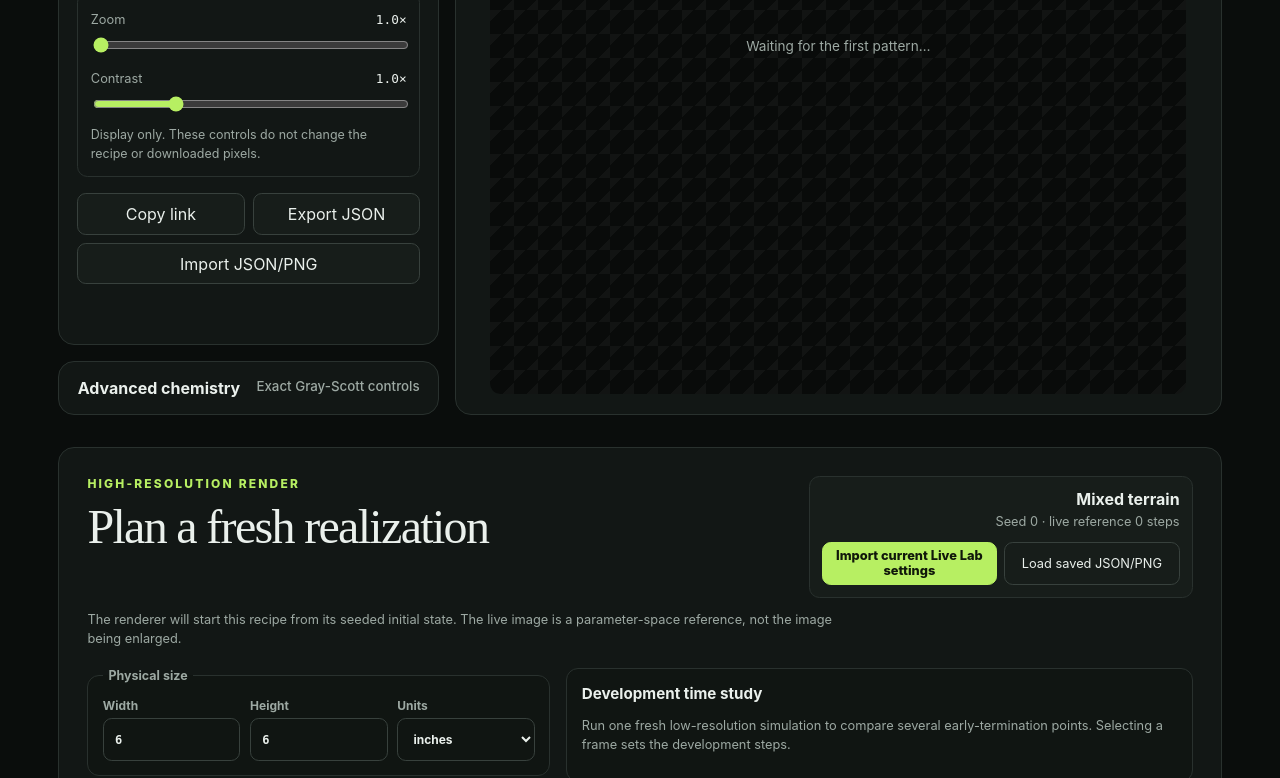
Test: live controls › sends the value that is displayed after a slider changes
(page scrolled)
Click the text "Advanced chemistry" at (159, 388), box [78,378,240,398]
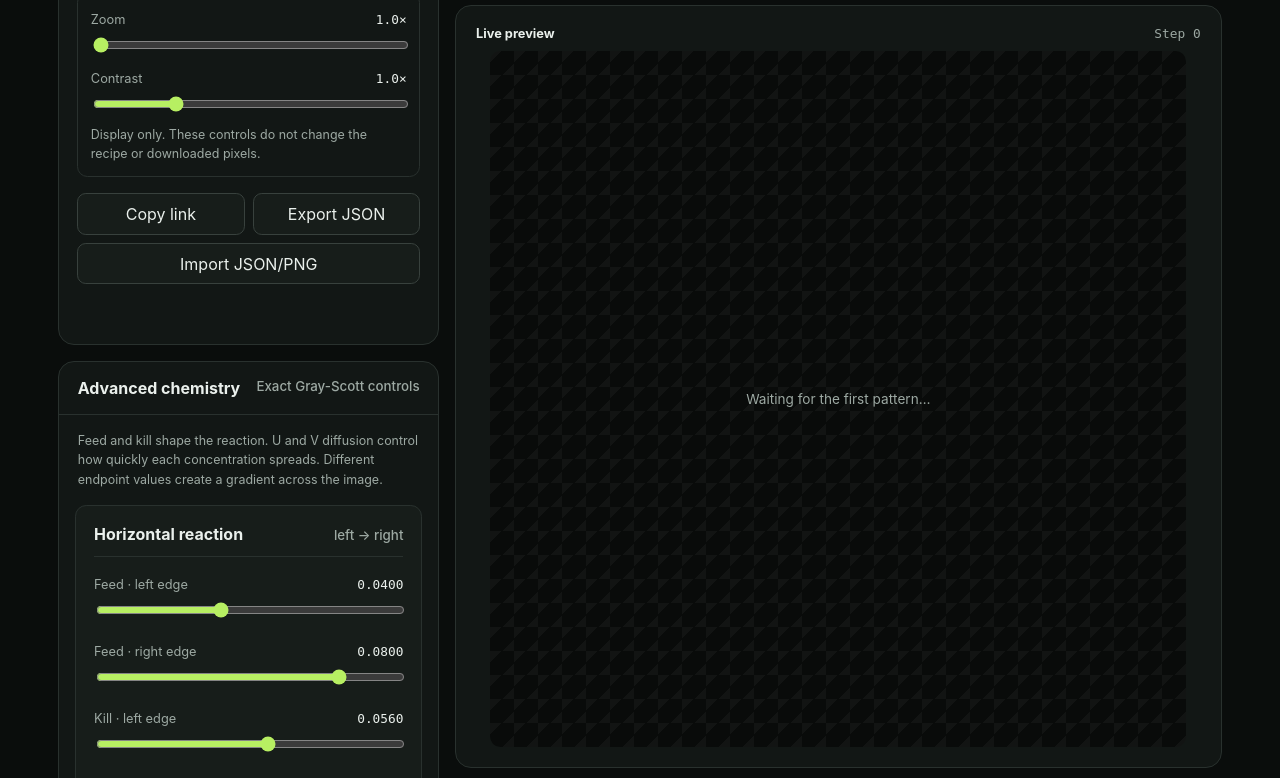
Set the slider labelled "Feed · left edge" to "0.051" at (254, 610), box [96,602,406,618]
Wait 50 ms
(page scrolled)
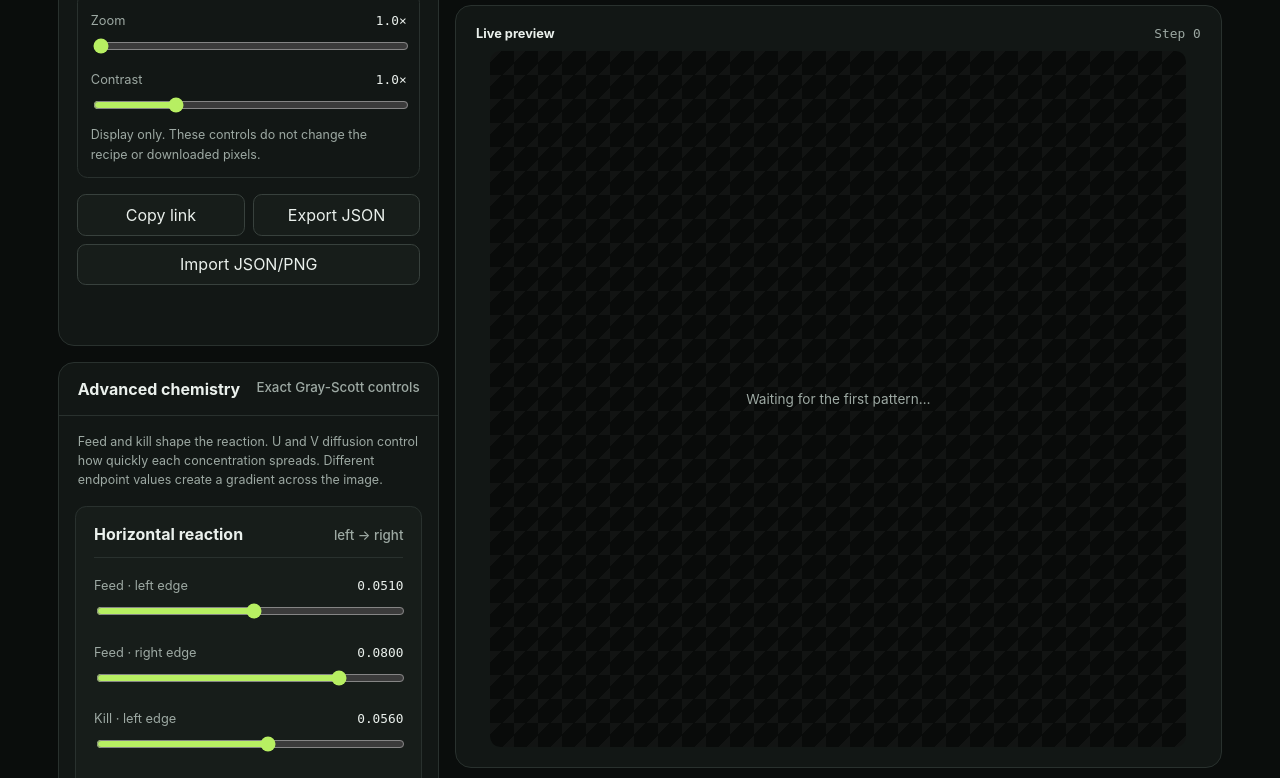
Expected: the text "0.0510" is shown, [357,578,403,593]
